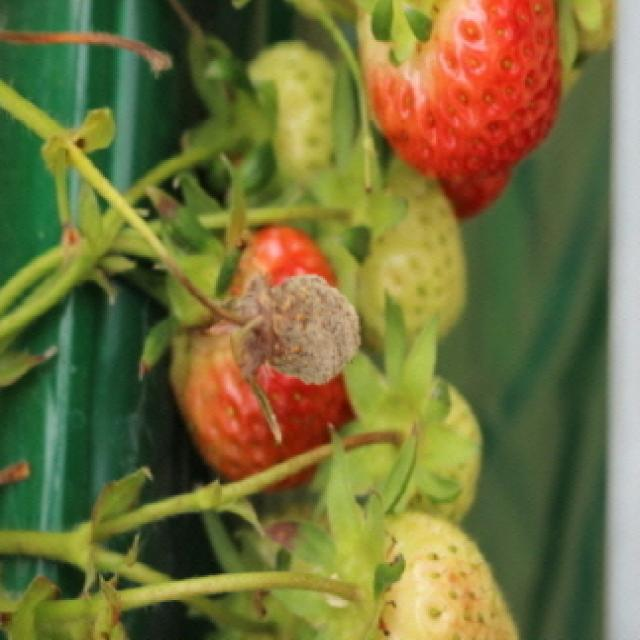Gray Mold: (205, 271, 364, 447)
